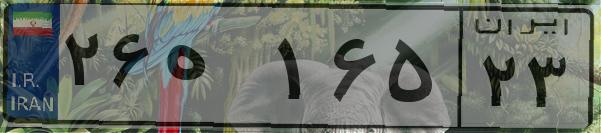1: (270, 28, 330, 110)
2: (57, 26, 110, 100), (475, 38, 525, 113)
3: (525, 38, 570, 115)
5: (385, 28, 445, 110)
6: (330, 28, 385, 110), (110, 28, 158, 98)
ه: (158, 20, 270, 120)
